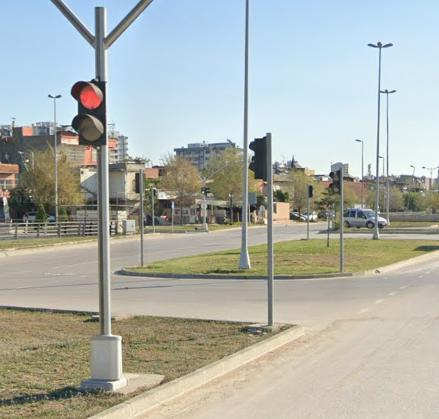redlight: (70, 76, 106, 147)
